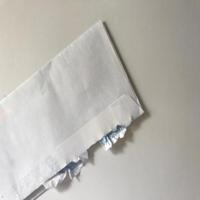paper: (0, 19, 145, 200)
